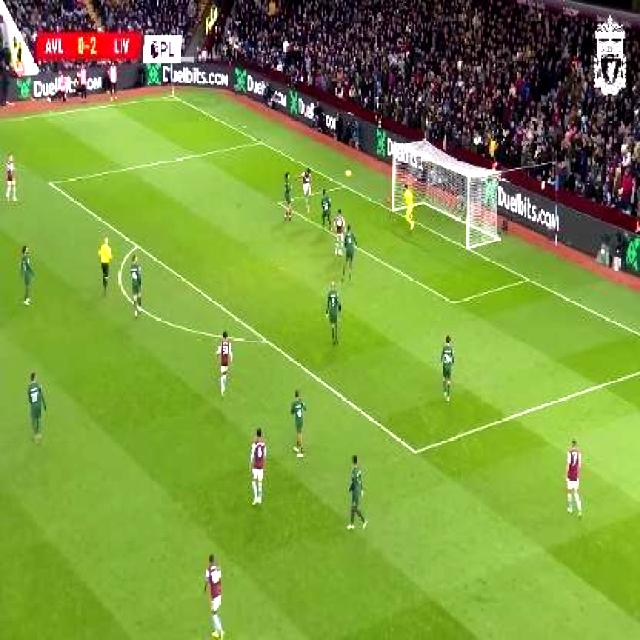bigarea_bottom_inner: (404, 437, 424, 465)
bigarea_top_inner: (41, 172, 57, 192)
bigarea_top_outter: (254, 134, 268, 149)
bottom_arc_area_intersection: (257, 329, 274, 349)
corner: (162, 89, 178, 102)
smallarea_bottom_inner: (443, 288, 462, 312)
smallarea_bottom_outter: (518, 269, 534, 286)
smallarea_top_inner: (272, 192, 286, 210)
smallarea_top_outter: (337, 175, 351, 192)
top_arc_area_intersection: (129, 235, 143, 252)
